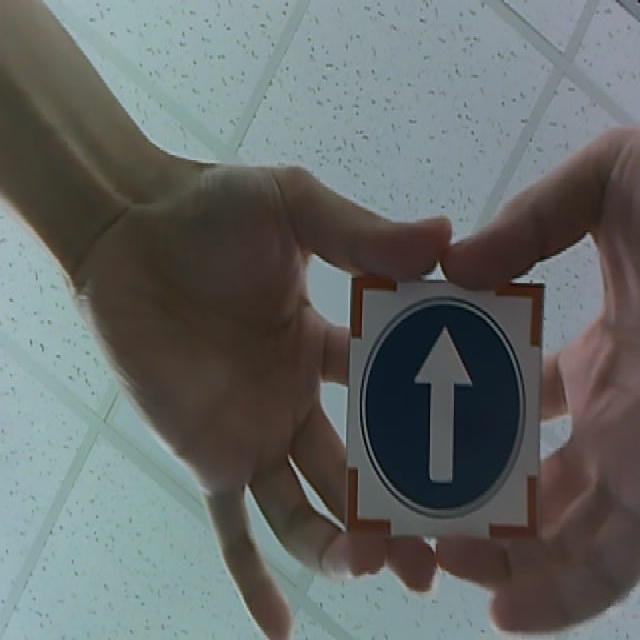straight: (343, 273, 547, 545)
